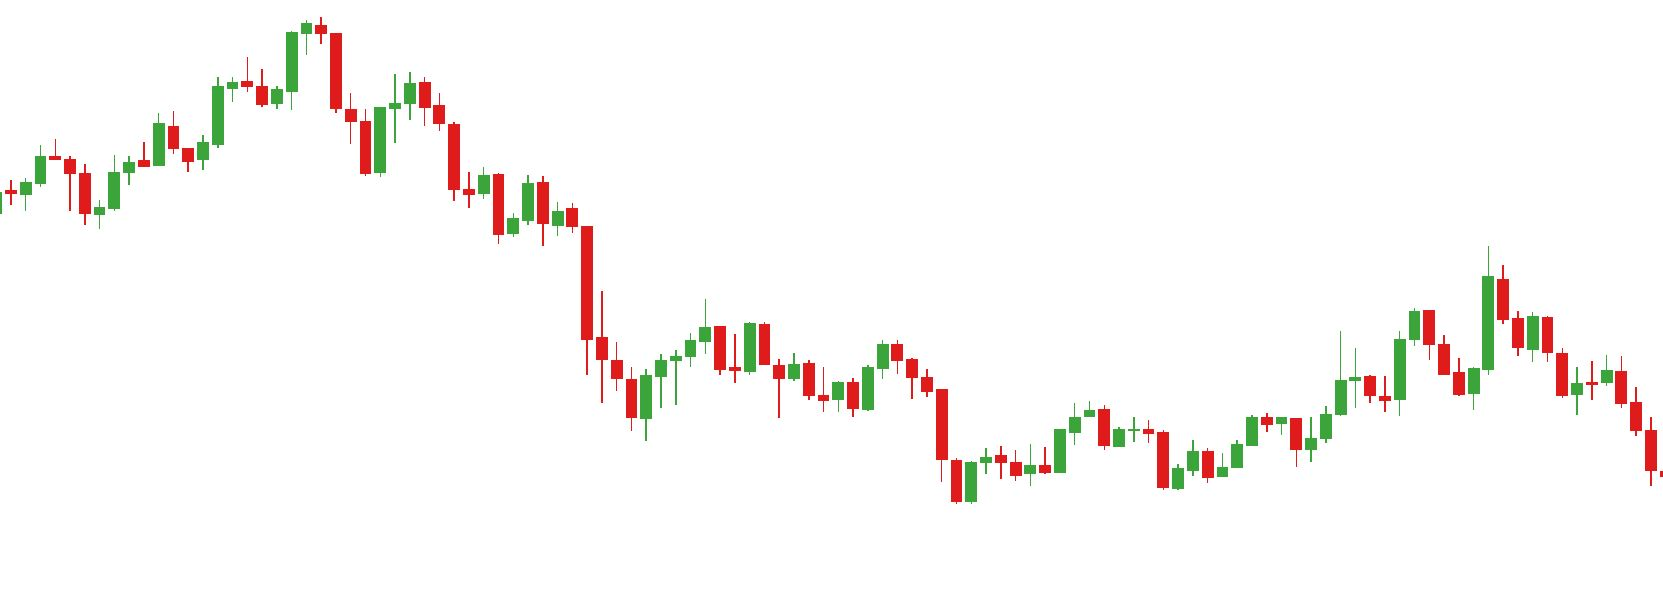sell: (1408, 244, 1510, 360)
